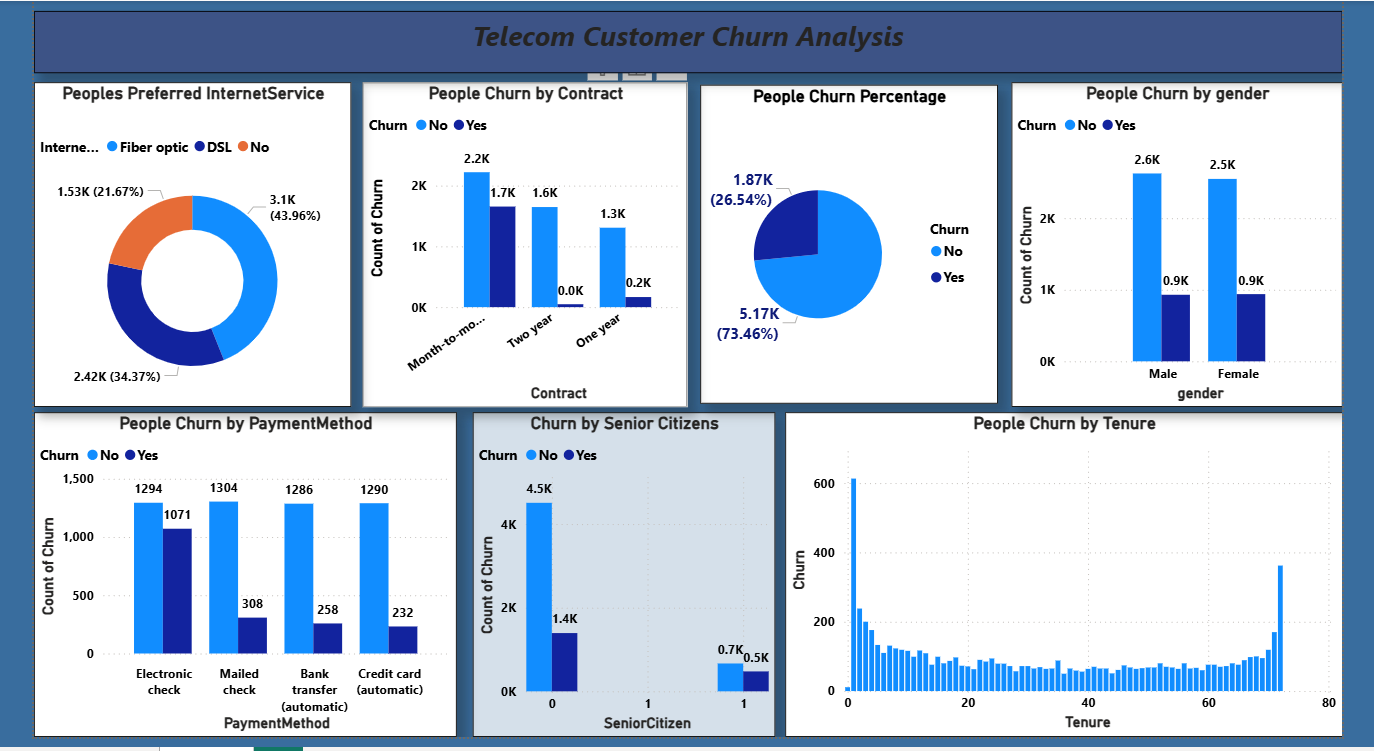

This screenshot's page, from the dashboard's own definition file:
{"tool":"powerbi","page":{"name":"Page 1","canvas":[1280,720],"ordinal":0},"visuals":[{"type":"clusteredColumnChart","title":"Churn by Senior Citizens ","fields":{"Y":["CountNonNull(Customer Churn.Churn)"],"Category":["Customer Churn.SeniorCitizen"],"Series":["Customer Churn.Churn"]},"box":[429.2,402.3,295.9,317.9],"z":0},{"type":"pieChart","title":"People Churn Percentage","fields":{"Category":["Customer Churn.Churn"],"Y":["CountNonNull(Customer Churn.Churn)"]},"box":[651.8,81.9,291,311.8],"z":1000},{"type":"lineStackedColumnComboChart","title":"People Churn by Tenure","fields":{"Category":["Customer Churn.tenure"],"Y":["CountNonNull(Customer Churn.Churn)"]},"box":[734.9,402.3,545.4,317.9],"z":2000},{"type":"clusteredColumnChart","title":"People Churn by PaymentMethod ","fields":{"Category":["Customer Churn.PaymentMethod"],"Series":["Customer Churn.Churn"],"Y":["CountNonNull(Customer Churn.Churn)"]},"box":[0,402.3,413.3,317.9],"z":3000},{"type":"clusteredColumnChart","title":"People Churn by Contract ","fields":{"Category":["Customer Churn.Contract"],"Series":["Customer Churn.Churn"],"Y":["CountNonNull(Customer Churn.Churn)"]},"box":[321.6,79.5,317.9,317.9],"z":4000},{"type":"clusteredColumnChart","title":"People Churn by gender ","fields":{"Category":["Customer Churn.gender"],"Y":["CountNonNull(Customer Churn.Churn)"],"Series":["Customer Churn.Churn"]},"box":[956.3,79.5,324.1,317.9],"z":5000},{"type":"textbox","box":[0,9.8,1280.3,61.1],"z":6000},{"type":"donutChart","title":"Peoples Preferred InternetService ","fields":{"Category":["Customer Churn.InternetService"],"Y":["CountNonNull(Customer Churn.InternetService)"]},"box":[0,79.5,310.6,317.9],"z":7000}]}

Visuals, with their boxes in screenshot pixels (x1, y1, x2, y2), scaled from the page's 1280x720 canvas onto the 1374x751 screenshot:
"Churn by Senior Citizens " clusteredColumnChart: {"left": 461, "top": 420, "right": 778, "bottom": 750}
"People Churn Percentage" pieChart: {"left": 700, "top": 85, "right": 1012, "bottom": 411}
"People Churn by Tenure" lineStackedColumnComboChart: {"left": 789, "top": 420, "right": 1373, "bottom": 750}
"People Churn by PaymentMethod " clusteredColumnChart: {"left": 0, "top": 420, "right": 444, "bottom": 750}
"People Churn by Contract " clusteredColumnChart: {"left": 345, "top": 83, "right": 686, "bottom": 415}
"People Churn by gender " clusteredColumnChart: {"left": 1027, "top": 83, "right": 1373, "bottom": 415}
textbox: {"left": 0, "top": 10, "right": 1373, "bottom": 74}
"Peoples Preferred InternetService " donutChart: {"left": 0, "top": 83, "right": 333, "bottom": 415}
